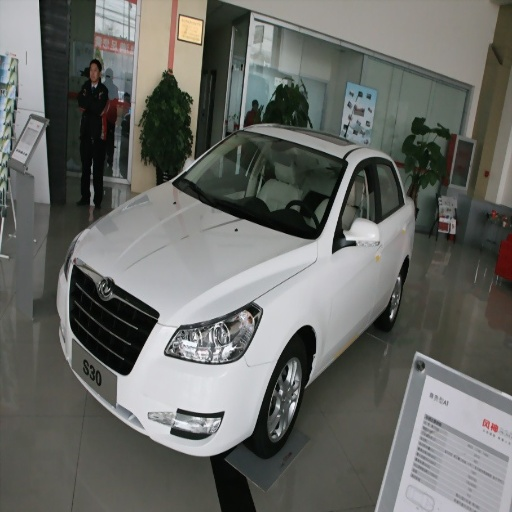front_bumper: (73, 267, 276, 456)
front_glass: (173, 134, 346, 239)
front_left_door: (326, 156, 380, 352)
